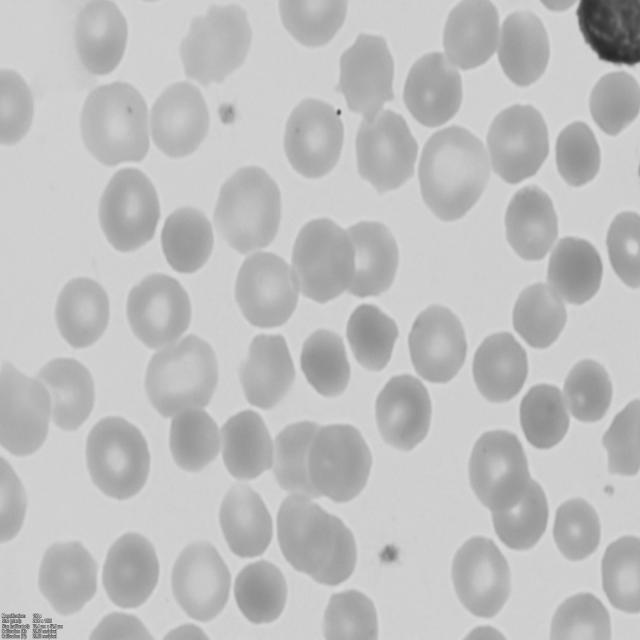Platelets: (218, 95, 242, 128)
RBC: (416, 122, 494, 224), (142, 332, 222, 423), (212, 164, 287, 259), (280, 500, 358, 588), (78, 74, 150, 168), (292, 422, 374, 504), (177, 0, 252, 87), (81, 412, 152, 502), (279, 90, 347, 182), (96, 165, 164, 257), (483, 99, 556, 184), (351, 104, 418, 193), (122, 268, 194, 350), (231, 245, 298, 333), (404, 302, 470, 390), (450, 532, 516, 620), (468, 425, 534, 513), (292, 216, 357, 304), (169, 536, 237, 620), (487, 468, 553, 554), (336, 215, 401, 302), (150, 76, 214, 159), (336, 30, 398, 115), (36, 353, 99, 436), (99, 529, 164, 609), (34, 536, 100, 614), (234, 328, 296, 411), (373, 372, 438, 450), (500, 1, 558, 88), (502, 178, 562, 262), (0, 365, 54, 458), (400, 52, 464, 126), (298, 319, 357, 399), (472, 328, 534, 404), (544, 230, 606, 306), (71, 0, 132, 77), (54, 272, 114, 350), (217, 484, 276, 562), (344, 294, 404, 370), (220, 405, 278, 483), (510, 276, 570, 351), (441, 0, 502, 72), (274, 0, 354, 50), (582, 66, 638, 136), (321, 582, 383, 640), (550, 494, 601, 564), (544, 591, 616, 640), (601, 207, 640, 291), (602, 533, 640, 617), (0, 64, 36, 152), (603, 394, 640, 475), (0, 456, 28, 546)
Spherocyte: (232, 552, 294, 628), (516, 376, 575, 452), (162, 401, 220, 474), (552, 116, 606, 189), (160, 204, 213, 274)
WBC: (567, 4, 640, 74)
